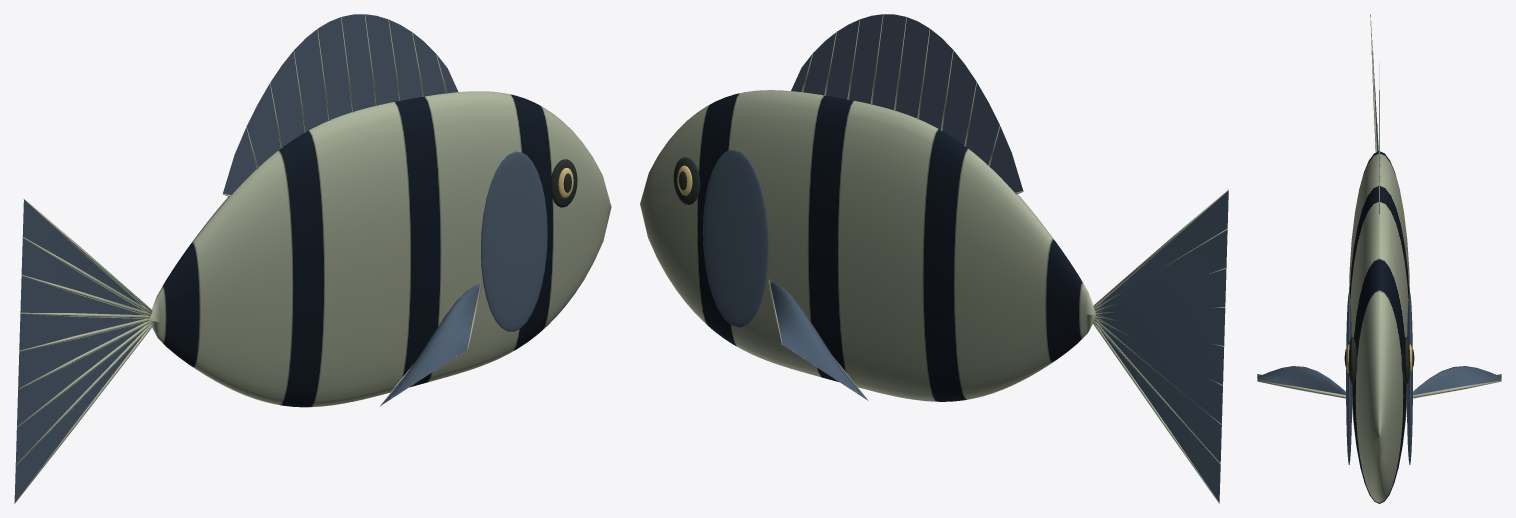
File: fish-angelfish.glb
3 views of the same model, side by side, from view 1: azimuth 30°, elevation 25°; view 2: azimuth 150°, elevation 25°; view 3: azimuth 270°, elevation 25° (orthographic). The views are drawn at different scales.
Visible parts, largest first — view 1: FishMesh_1.001, FishMesh_2.001, FishMesh_3.001; view 2: FishMesh_1.001, FishMesh_2.001, FishMesh_3.001; view 3: FishMesh_1.001, FishMesh_2.001, FishMesh_3.001.
Part boxes in pixels (x1,y1,x2,y2): FishMesh_1.001: (14, 14, 611, 503); FishMesh_2.001: (14, 14, 547, 502); FishMesh_3.001: (550, 159, 577, 207); FishMesh_1.001: (640, 14, 1228, 503); FishMesh_2.001: (703, 14, 1228, 502); FishMesh_3.001: (673, 157, 700, 204); FishMesh_1.001: (1257, 14, 1501, 503); FishMesh_2.001: (1257, 40, 1501, 464); FishMesh_3.001: (1344, 337, 1414, 383).
Bounding box in the file's own units: 1.15 × 0.7644 × 0.4346.
4 materials, 1 textured.
